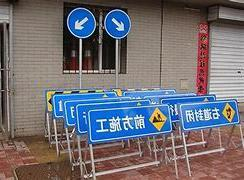sign: (88, 104, 170, 137), (179, 99, 239, 128)
